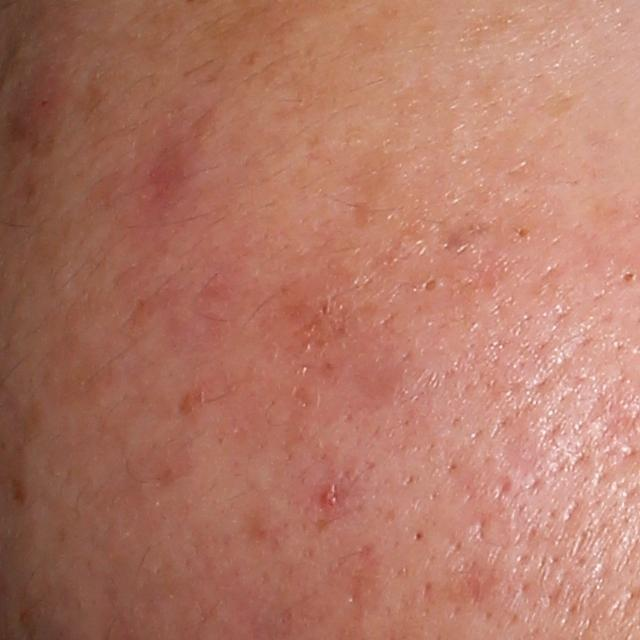comedo: (419, 275, 441, 297), (618, 269, 639, 287), (514, 224, 532, 243)
papule: (311, 476, 348, 512)
